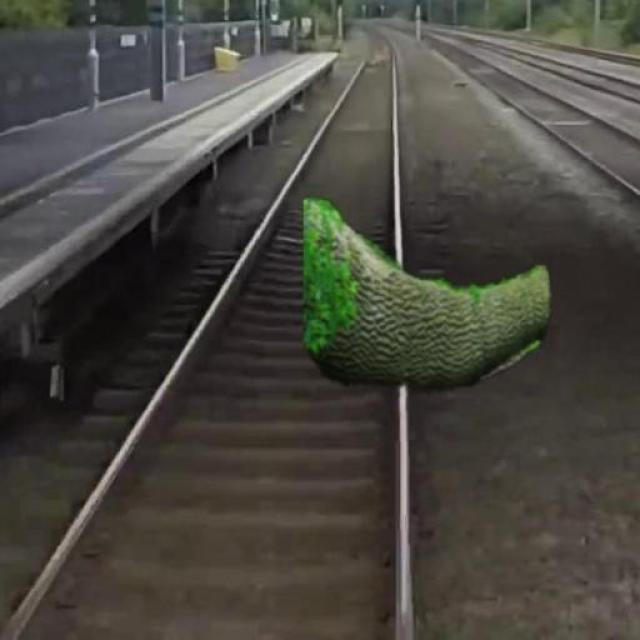Branches: (296, 197, 552, 390)
